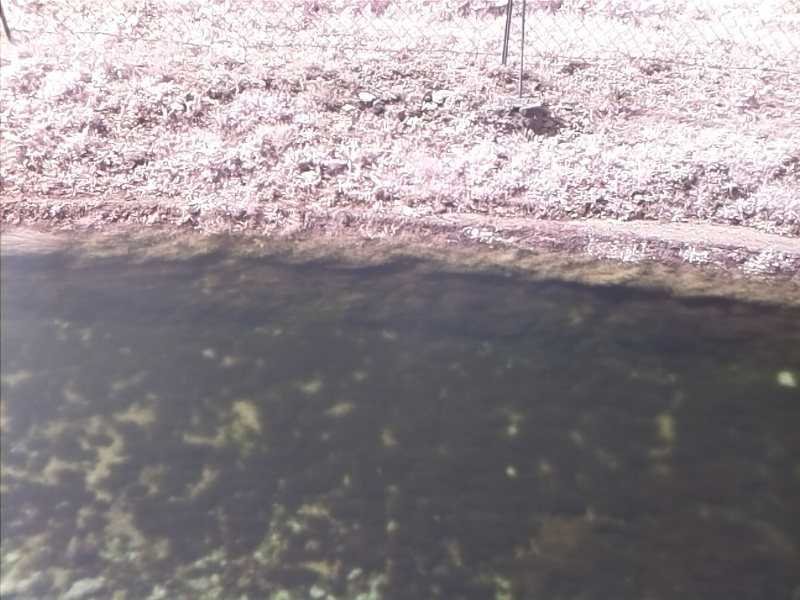Water: (1, 221, 799, 600)
